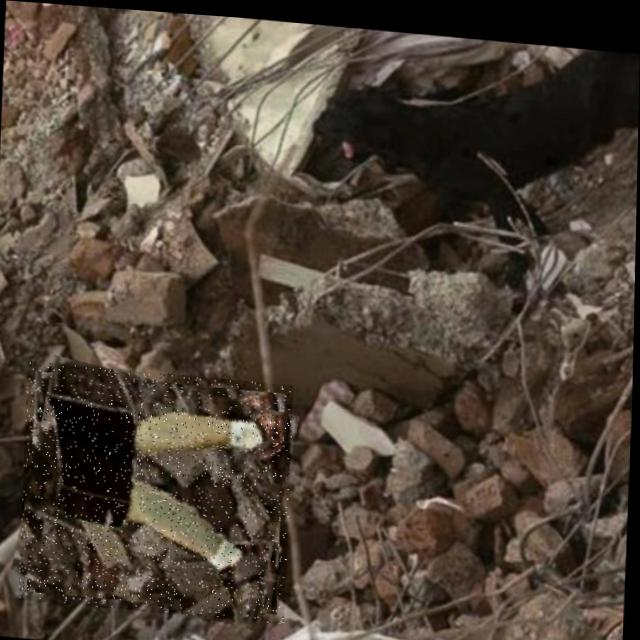Person in Rubble: (21, 359, 295, 619)
